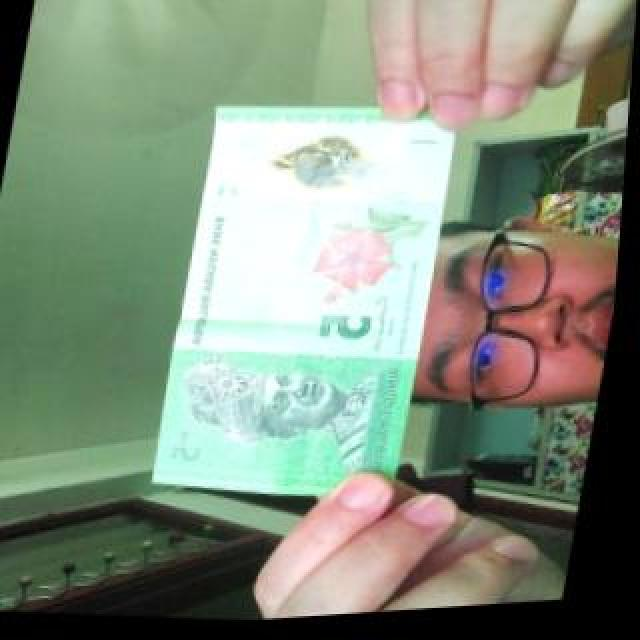5 Ringgit: (148, 82, 462, 501)
